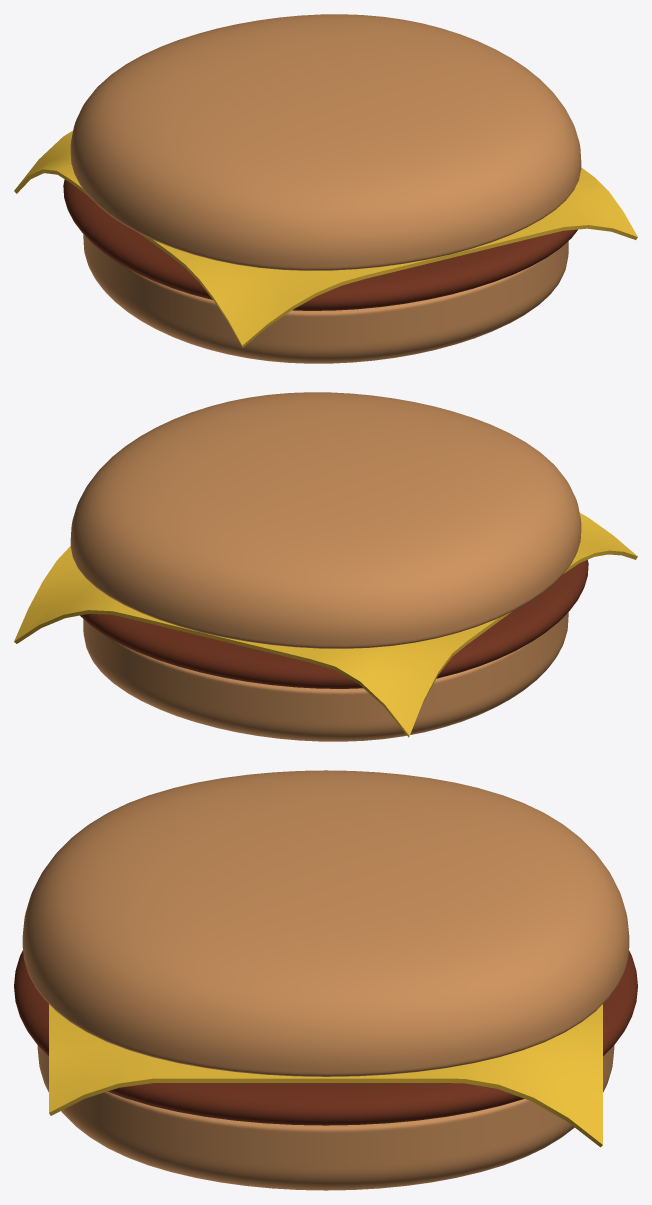
Rendered from hamburger.glb.
3 renders of one model, top to bottom at view 1: azimuth 30°, elevation 25°; view 2: azimuth 150°, elevation 25°; view 3: azimuth 270°, elevation 25°, orthographic. The views are drawn at different scales.
Parts seen in each view (by area): view 1: Cube.003, Cube.001, Plane, Cube.002; view 2: Cube.003, Cube.001, Plane, Cube.002; view 3: Cube.003, Cube.001, Plane, Cube.002.
Boxes of the visible parts, bbox=[...] form: Cube.003: bbox=[70, 14, 581, 270]; Cube.001: bbox=[83, 234, 568, 363]; Plane: bbox=[14, 131, 637, 347]; Cube.002: bbox=[63, 179, 577, 310]; Cube.003: bbox=[70, 392, 581, 648]; Cube.001: bbox=[83, 612, 568, 741]; Plane: bbox=[14, 513, 637, 737]; Cube.002: bbox=[80, 559, 588, 688]; Cube.003: bbox=[22, 770, 629, 1076]; Cube.001: bbox=[37, 1045, 614, 1190]; Plane: bbox=[49, 1004, 602, 1147]; Cube.002: bbox=[14, 950, 637, 1125].
Size of the model in its own units: 9.82 by 4.32 by 9.82.
